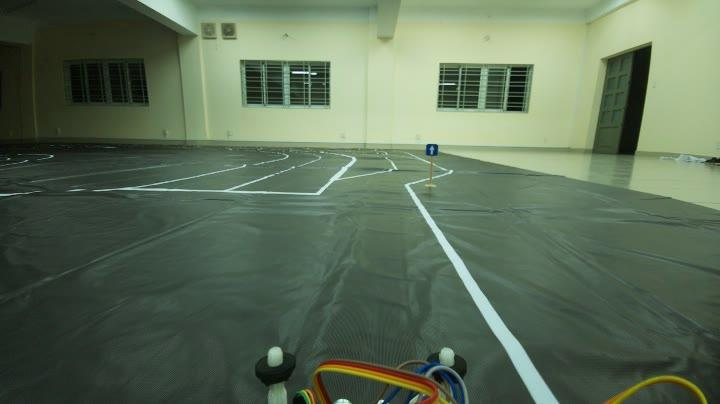onewayroad: (424, 138, 442, 164)
